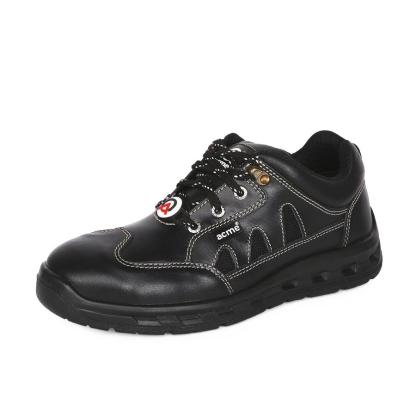bota: (30, 126, 386, 338)
